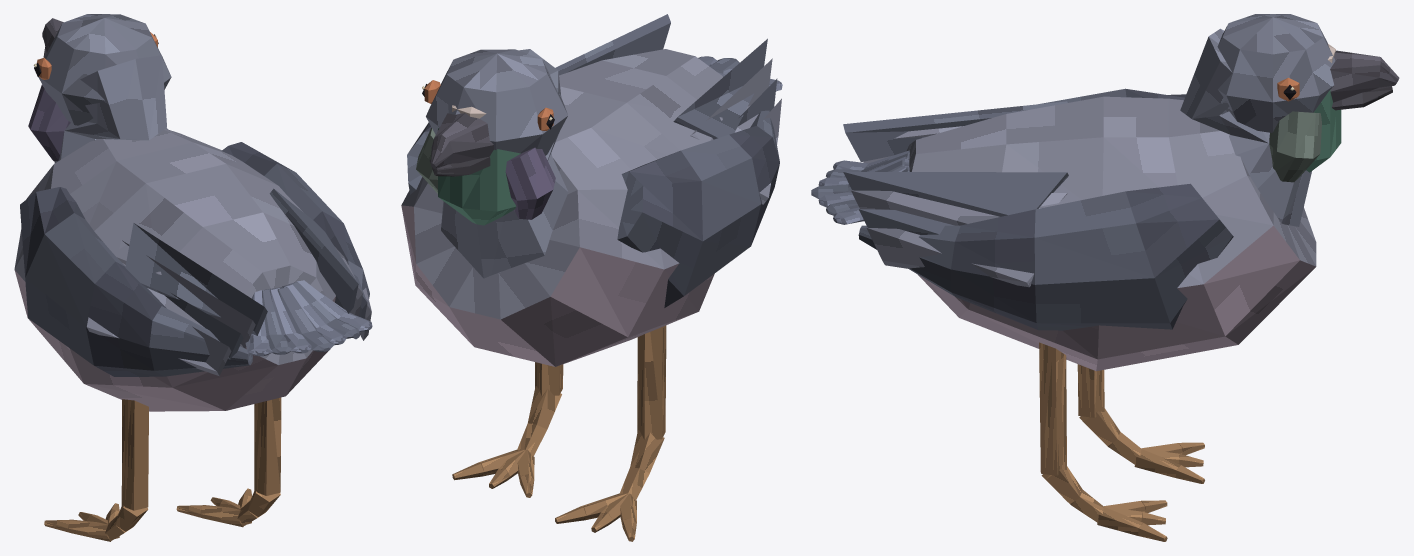
Rendered from mon_pigeon.glb.
The picture shows the model from 3 angles, left to right: view 1: azimuth 30°, elevation 25°; view 2: azimuth 150°, elevation 25°; view 3: azimuth 270°, elevation 25°; orthographic projection. The views are drawn at different scales.
Visible parts, largest first — view 1: closed_body; view 2: closed_body; view 3: closed_body.
Boxes of the visible parts, <box> form: closed_body: <box>14,14,372,541</box>; closed_body: <box>401,14,782,541</box>; closed_body: <box>811,14,1399,541</box>.
Size of the model in its own units: 0.1199 by 0.194 by 0.2158.
1 material, 1 textured.
